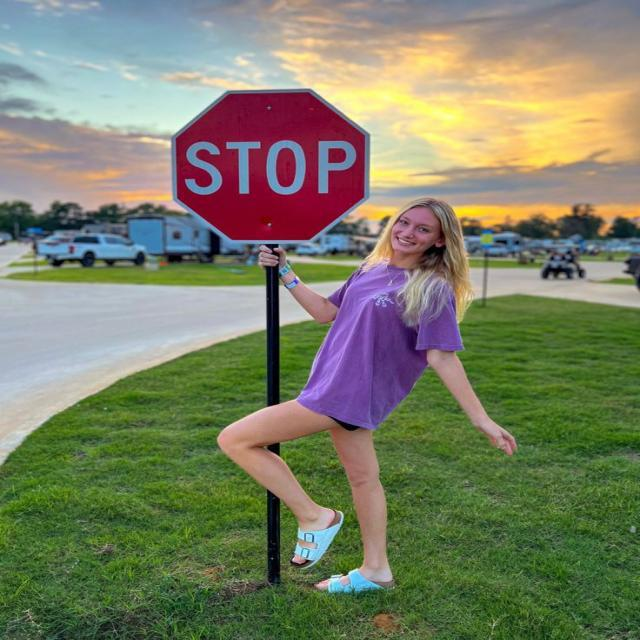stop: (170, 87, 371, 244)
